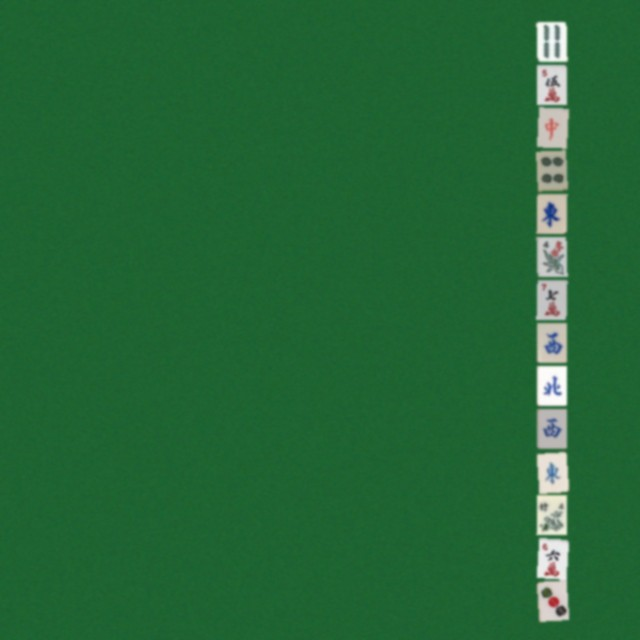tile: (536, 21, 566, 61), (536, 64, 566, 104), (536, 107, 566, 147), (536, 150, 566, 190), (536, 193, 566, 233), (536, 236, 566, 276), (536, 279, 566, 319), (536, 322, 566, 362), (536, 365, 566, 405), (536, 408, 566, 448), (536, 451, 566, 491), (536, 494, 566, 534), (536, 537, 566, 577), (536, 580, 566, 620)
